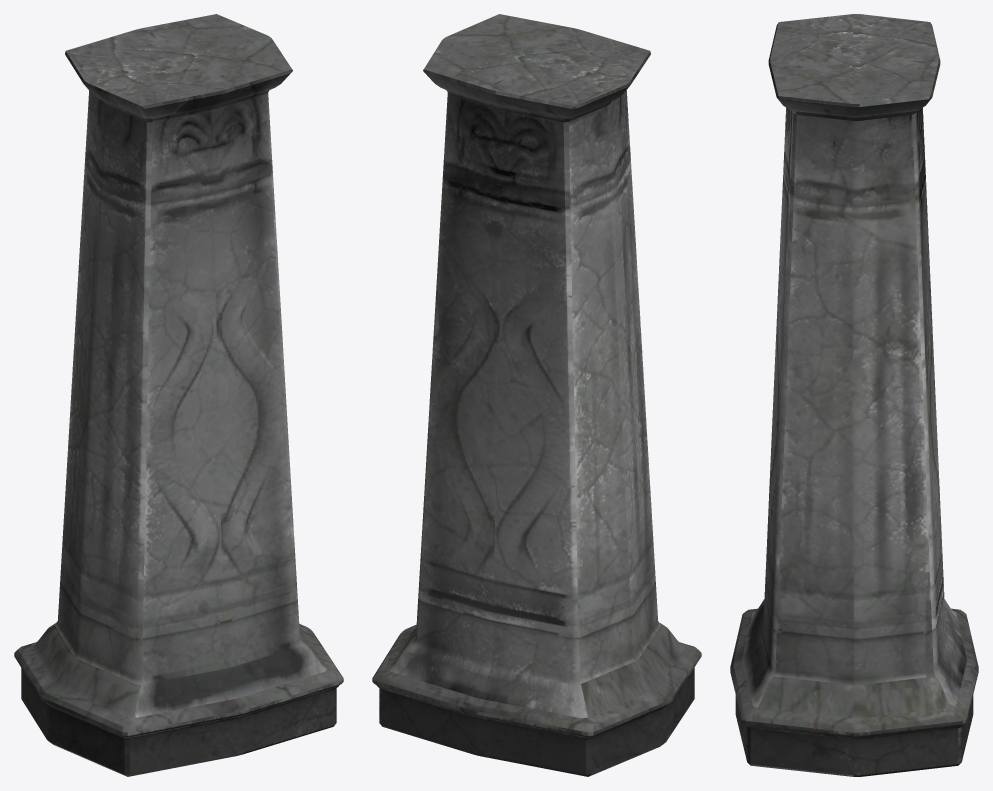
File: pedestal.dae
The picture shows the model from 3 angles, left to right: view 1: azimuth 30°, elevation 25°; view 2: azimuth 150°, elevation 25°; view 3: azimuth 270°, elevation 25°; orthographic projection.
Parts seen in each view (by area): view 1: pCube1; view 2: pCube1; view 3: pCube1.
Part boxes in pixels (left/top/right/bottom): pCube1: left=14, top=14, right=343, bottom=776; pCube1: left=372, top=14, right=701, bottom=776; pCube1: left=730, top=14, right=978, bottom=776.
Bounding box in the file's own units: 0.2833 × 0.6576 × 0.2253.
